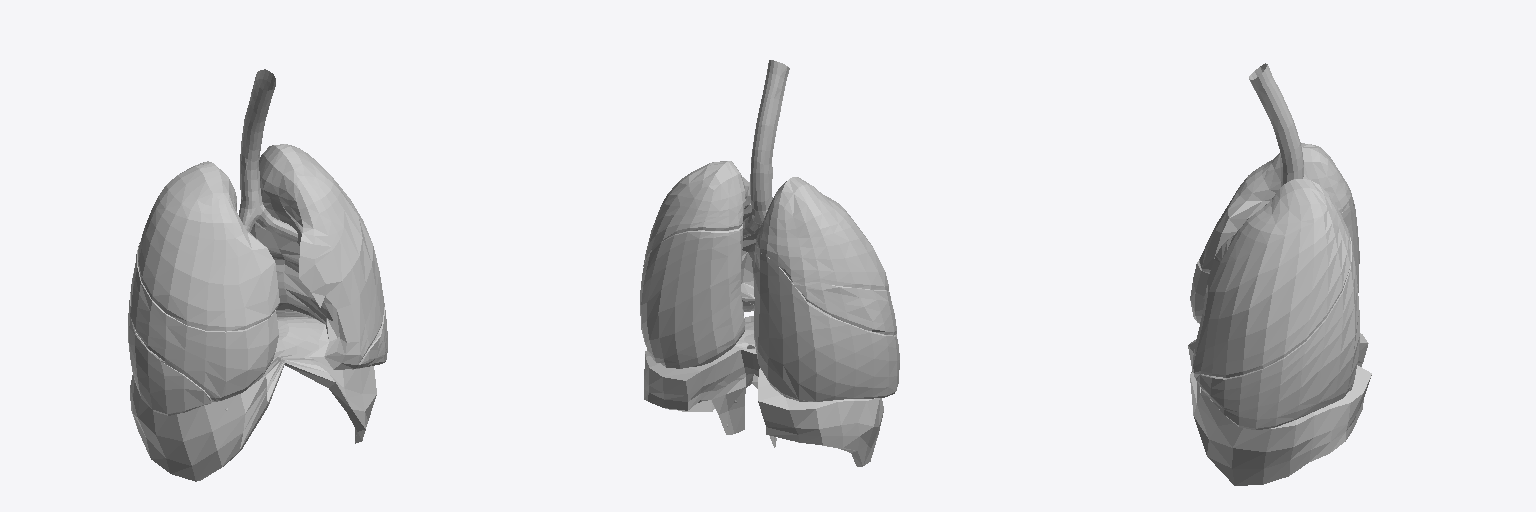
File: Lungs_1.obj
3 views of the same model, side by side, from view 1: azimuth 30°, elevation 25°; view 2: azimuth 150°, elevation 25°; view 3: azimuth 270°, elevation 25° (orthographic).
Visible parts, largest first — view 1: group1 polySurface10, group1 polySurface9, polySurface11 group1, group1 polySurface25; view 2: group1 polySurface10, group1 polySurface9, polySurface11 group1, group1 polySurface25; view 3: group1 polySurface9, polySurface11 group1, group1 polySurface10, group1 polySurface25.
Boxes of the visible parts, <box> form: group1 polySurface10: <box>128,161,279,415</box>; group1 polySurface9: <box>250,144,387,369</box>; polySurface11 group1: <box>130,317,376,481</box>; group1 polySurface25: <box>239,69,297,241</box>; group1 polySurface10: <box>752,177,899,401</box>; group1 polySurface9: <box>640,161,759,368</box>; polySurface11 group1: <box>644,316,883,466</box>; group1 polySurface25: <box>743,60,789,237</box>; group1 polySurface9: <box>1193,179,1359,429</box>; polySurface11 group1: <box>1188,333,1371,485</box>; group1 polySurface10: <box>1190,143,1359,323</box>; group1 polySurface25: <box>1249,63,1303,185</box>.
Size of the model in its own units: 31.8 by 48.12 by 21.05.